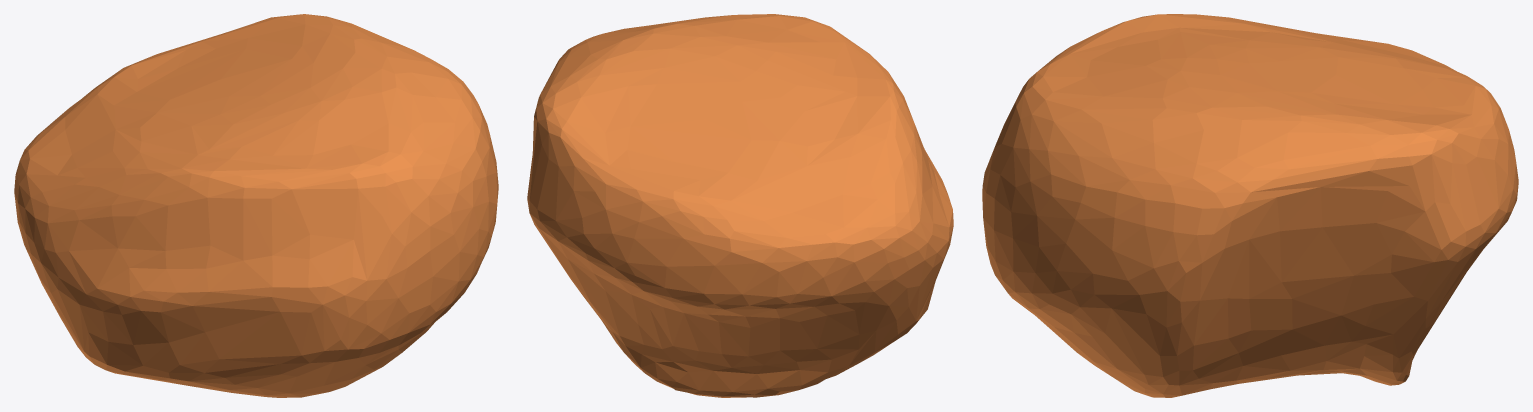
The model's file is Desert_Rock3.fbx.
The picture shows the model from 3 angles, left to right: view 1: azimuth 30°, elevation 25°; view 2: azimuth 150°, elevation 25°; view 3: azimuth 270°, elevation 25°; orthographic projection. The views are drawn at different scales.
Parts seen in each view (by area): view 1: Sphere.003; view 2: Sphere.003; view 3: Sphere.003.
Boxes of the visible parts, <box> form: Sphere.003: <box>14,14,498,397</box>; Sphere.003: <box>527,14,953,397</box>; Sphere.003: <box>982,14,1518,397</box>.
Size of the model in its own units: 185 by 127 by 183.
